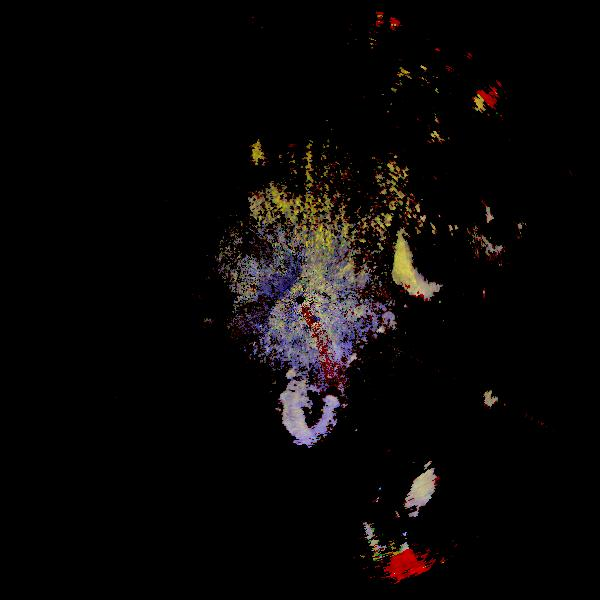roost: (347, 142, 536, 331)
